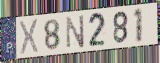1: (133, 7, 145, 44)
2: (88, 10, 109, 50)
8: (42, 19, 62, 52), (112, 10, 130, 45)
N: (65, 14, 86, 50)
X: (19, 18, 40, 56)
